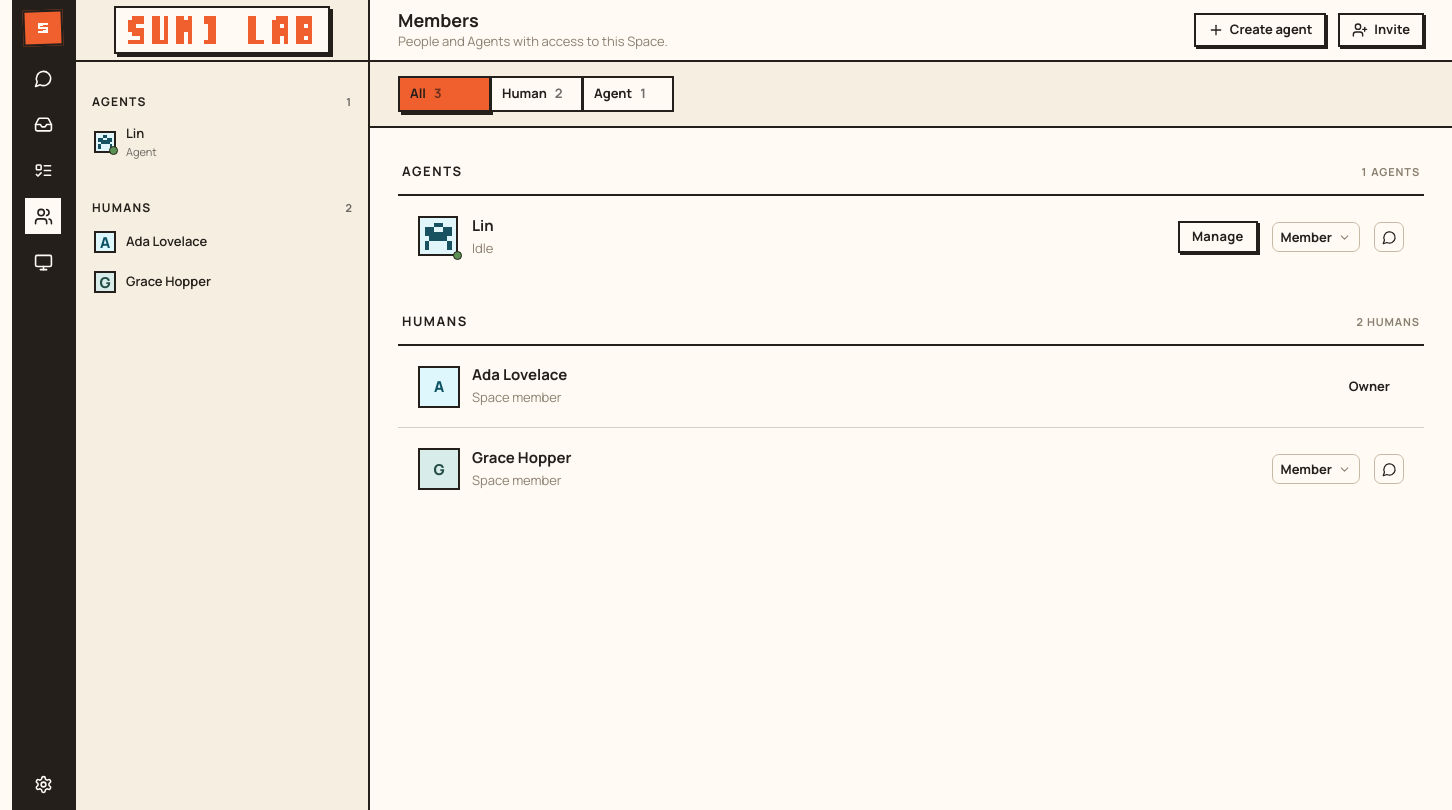
Test: Phase one Human flows › renders the unified Member list and Owner controls
This screenshot has width=1452, height=810.
Expected: the heading "Members" is shown, top-left (398, 8), bottom-right (479, 32)
Expected: the 1st text "Grace Hopper" is shown, top-left (126, 272), bottom-right (211, 290)
Click the dropdown named "Access level for Grace Hopper" at (1316,469), box top-left (1272, 454), bottom-right (1360, 484)
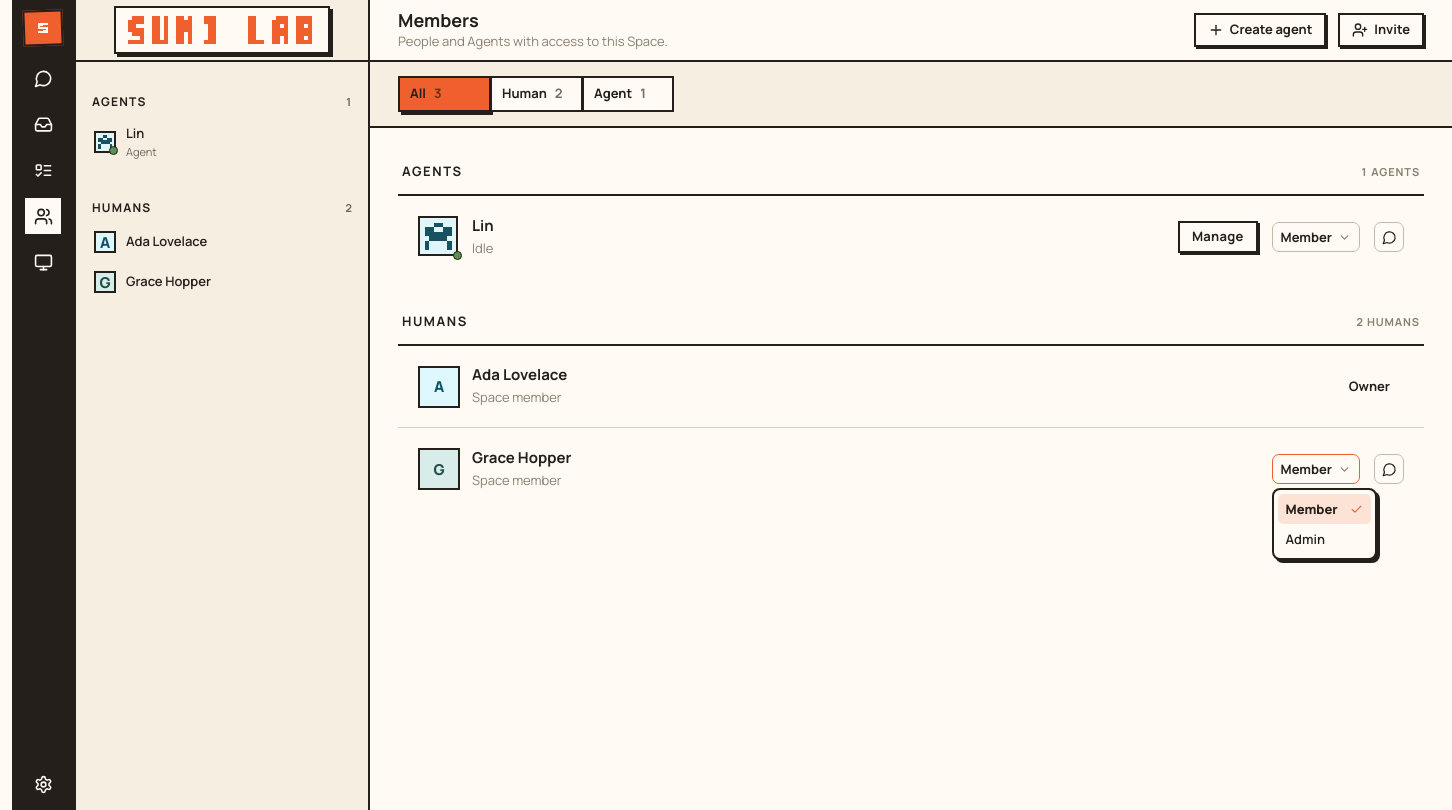
Click the option "Admin" at (1305,539), box top-left (1286, 530), bottom-right (1325, 548)
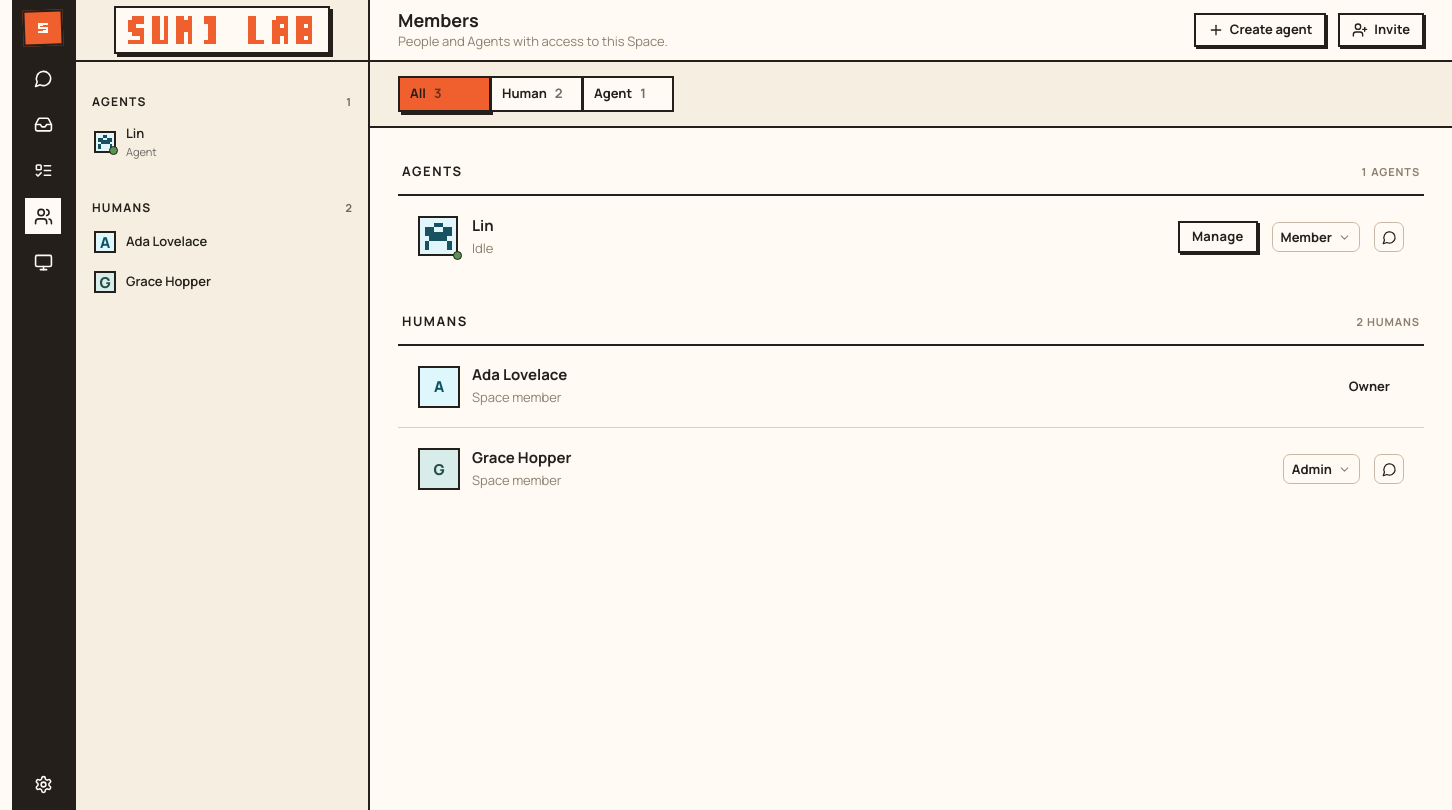
Click the button named "message" at (1389,469), box top-left (1374, 454), bottom-right (1404, 484)
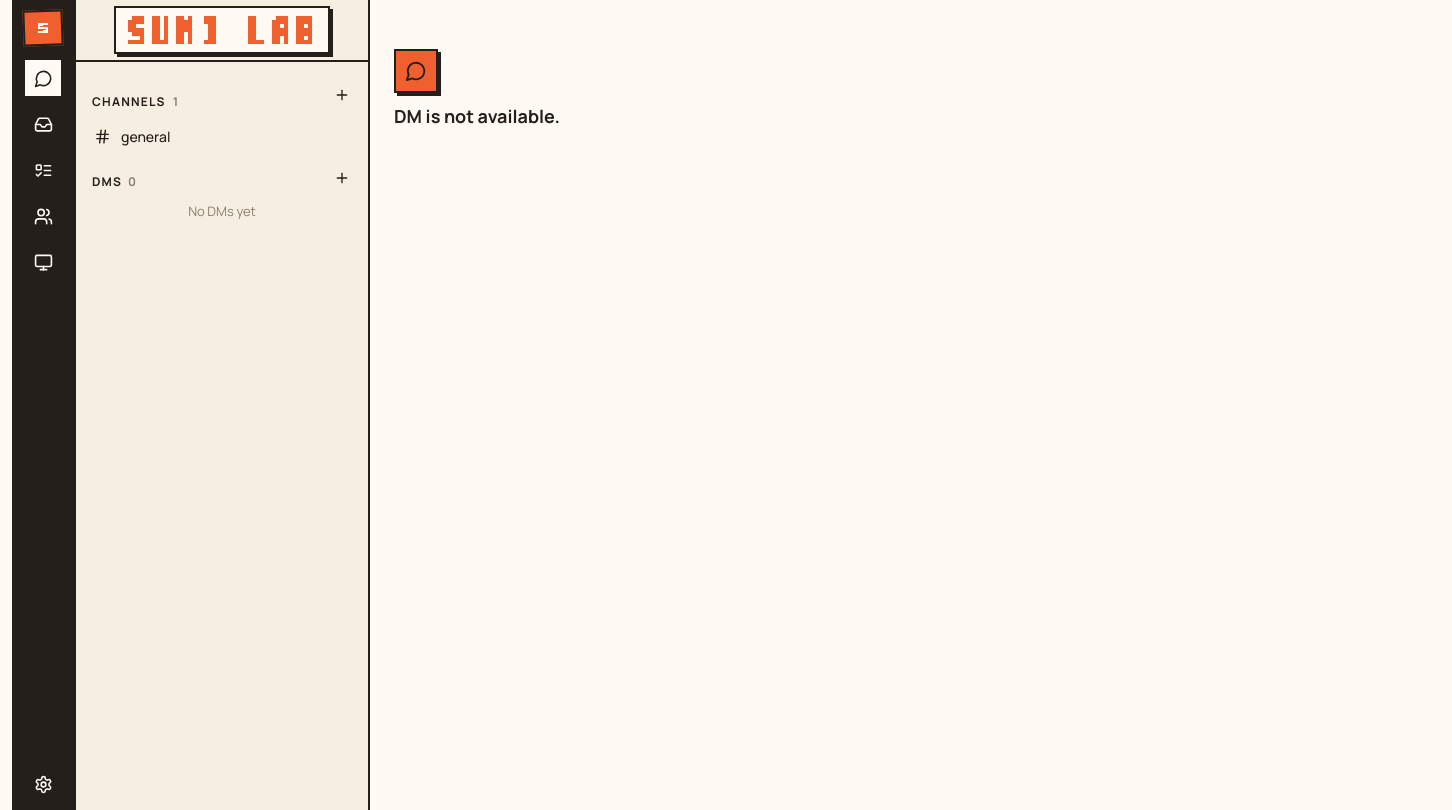
Click the link named "Computers" at (43,262), box top-left (34, 252), bottom-right (52, 272)
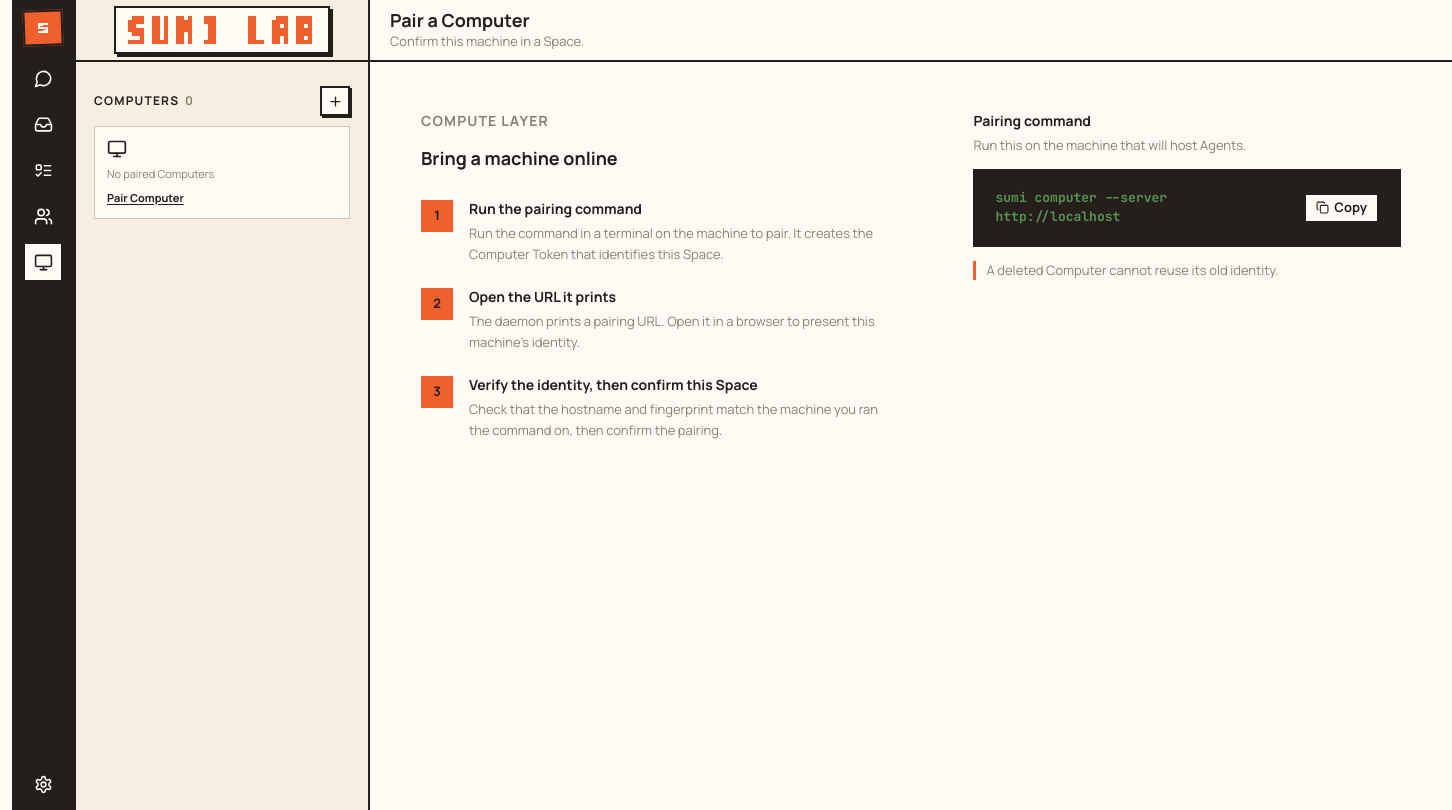
Expected: the element named "Computers" is shown
